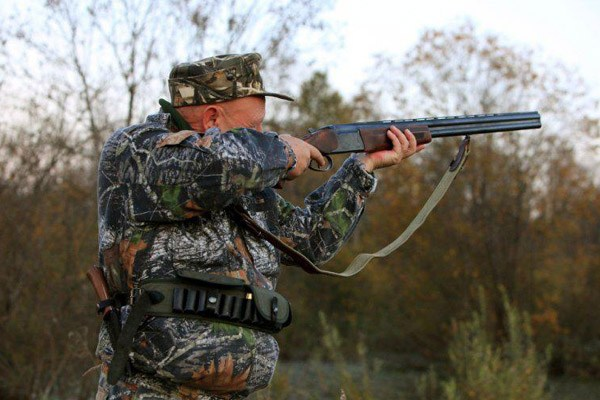gun: (259, 108, 547, 192)
